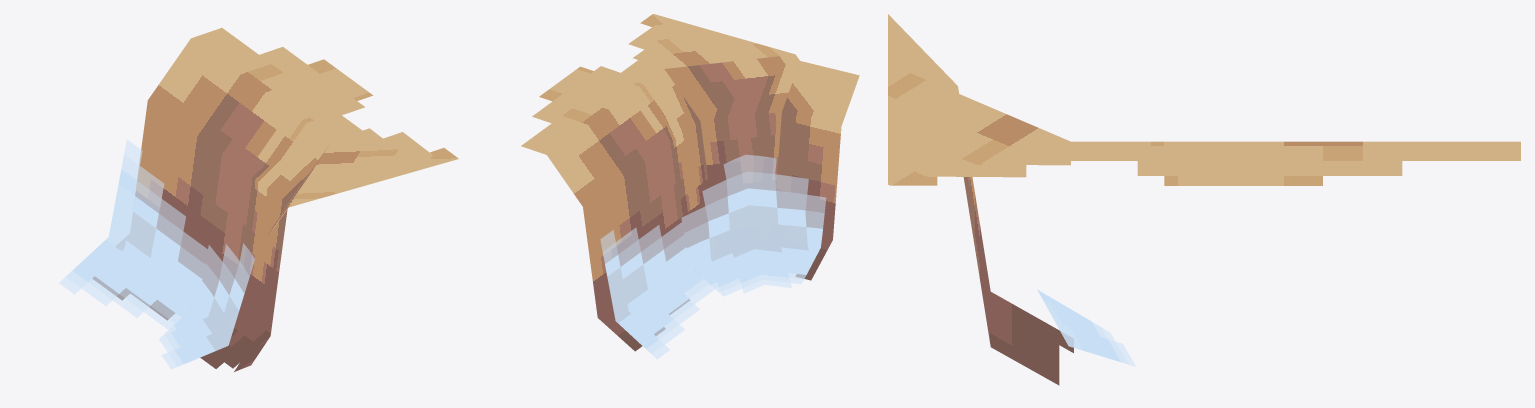
The picture shows the model from 3 angles, left to right: view 1: azimuth 30°, elevation 25°; view 2: azimuth 150°, elevation 25°; view 3: azimuth 270°, elevation 25°; orthographic projection. The views are drawn at different scales.
Size of the model in its own units: 0.7236 by 0.6967 by 1.
Materials: 2 (2 with a texture image).
